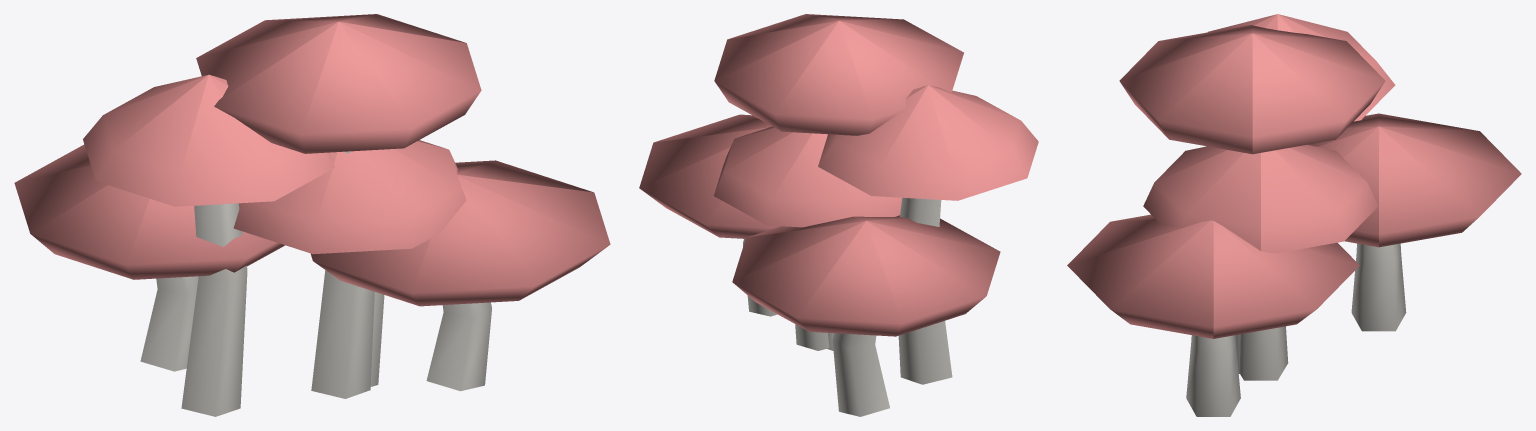
File: pilz_1.glb
3 renders of one model, left to right at view 1: azimuth 30°, elevation 25°; view 2: azimuth 150°, elevation 25°; view 3: azimuth 270°, elevation 25°, orthographic. The views are drawn at different scales.
Visible parts, largest first — view 1: G_pilz_1; view 2: G_pilz_1; view 3: G_pilz_1.
Part boxes in pixels (left/top/right/bottom): G_pilz_1: left=14, top=14, right=610, bottom=416; G_pilz_1: left=639, top=14, right=1038, bottom=416; G_pilz_1: left=1067, top=14, right=1521, bottom=416.
Size of the model in its own units: 0.3759 by 0.2808 by 0.3477.
